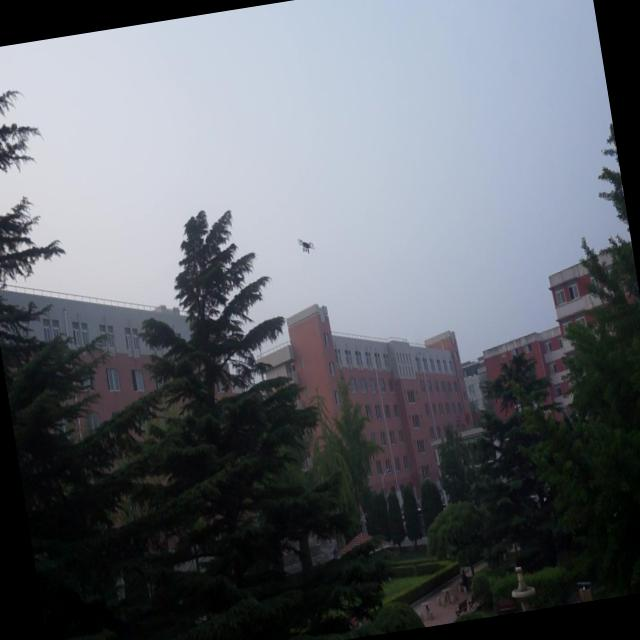drone: (296, 232, 319, 258)
